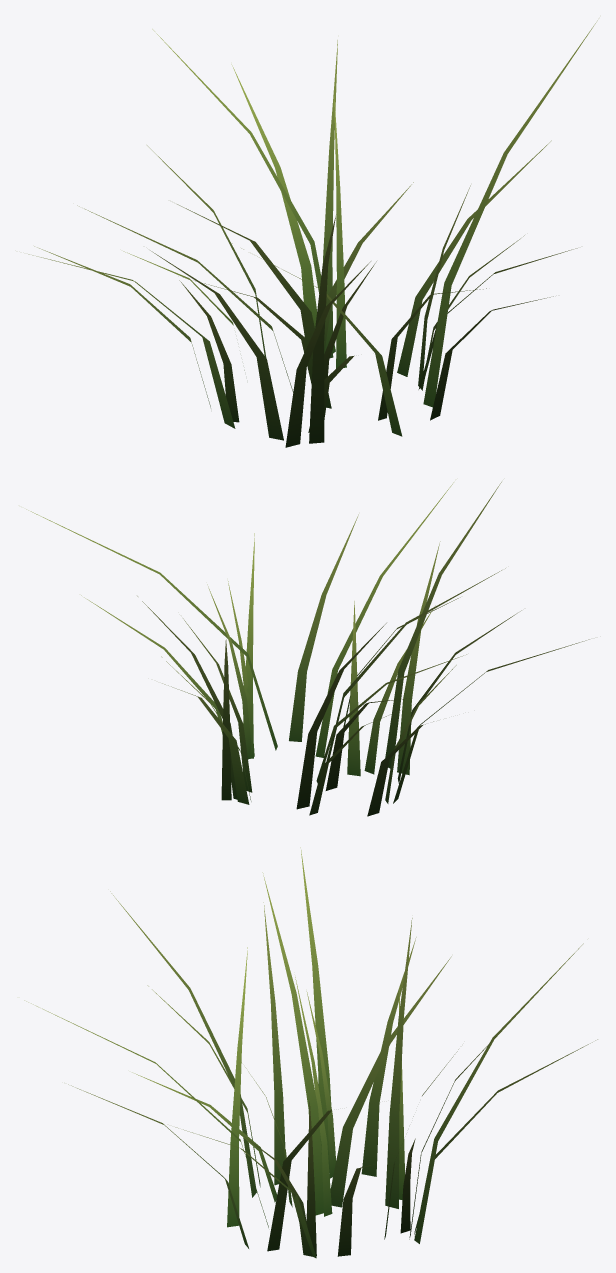
The model's file is grass_c.glb.
3 views of the same model, one above another, from view 1: azimuth 30°, elevation 25°; view 2: azimuth 150°, elevation 25°; view 3: azimuth 270°, elevation 25° (orthographic). The views are drawn at different scales.
Parts seen in each view (by area): view 1: grass_c; view 2: grass_c; view 3: grass_c.
Boxes of the visible parts, <box> form: grass_c: <box>28,20,597,447</box>; grass_c: <box>26,482,589,816</box>; grass_c: <box>24,847,597,1258</box>.
Size of the model in its own units: 1.36 by 0.6088 by 1.16.
